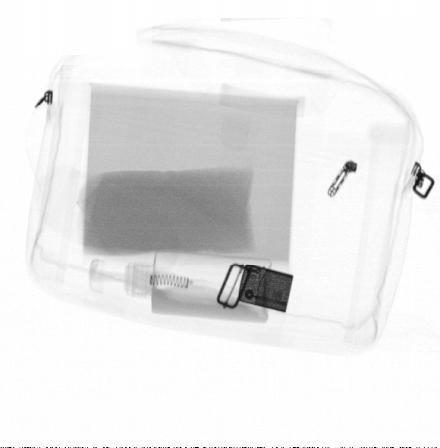Lighter: (238, 265, 293, 313)
